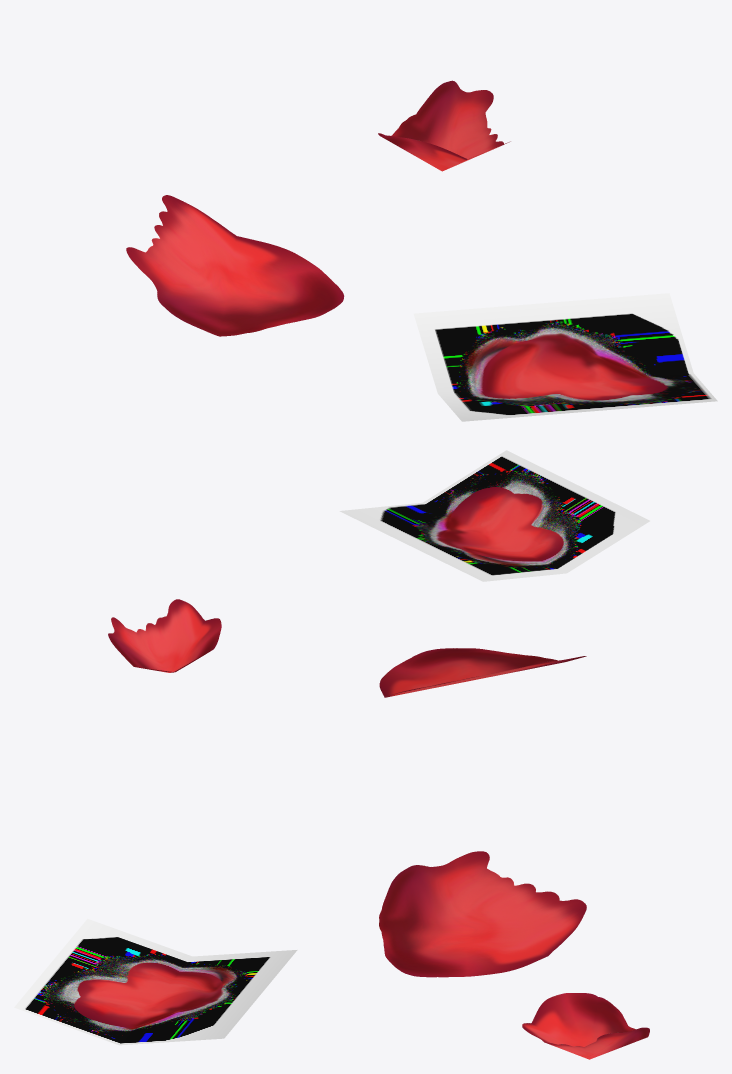
File: Fallen Petals 3.fbx
3 renders of one model, top to bottom at view 1: azimuth 30°, elevation 25°; view 2: azimuth 150°, elevation 25°; view 3: azimuth 270°, elevation 25°, orthographic. The views are drawn at different scales.
Parts seen in each view (by area): view 1: Fallen Petals 3; view 2: Fallen Petals 3; view 3: Fallen Petals 3.
Part boxes in pixels (box(x1,y1,x2,y2)): Fallen Petals 3: box(126, 80, 717, 421); Fallen Petals 3: box(108, 450, 649, 697); Fallen Petals 3: box(14, 851, 649, 1059).
Size of the model in its own units: 37.56 by 6.57 by 40.31.
